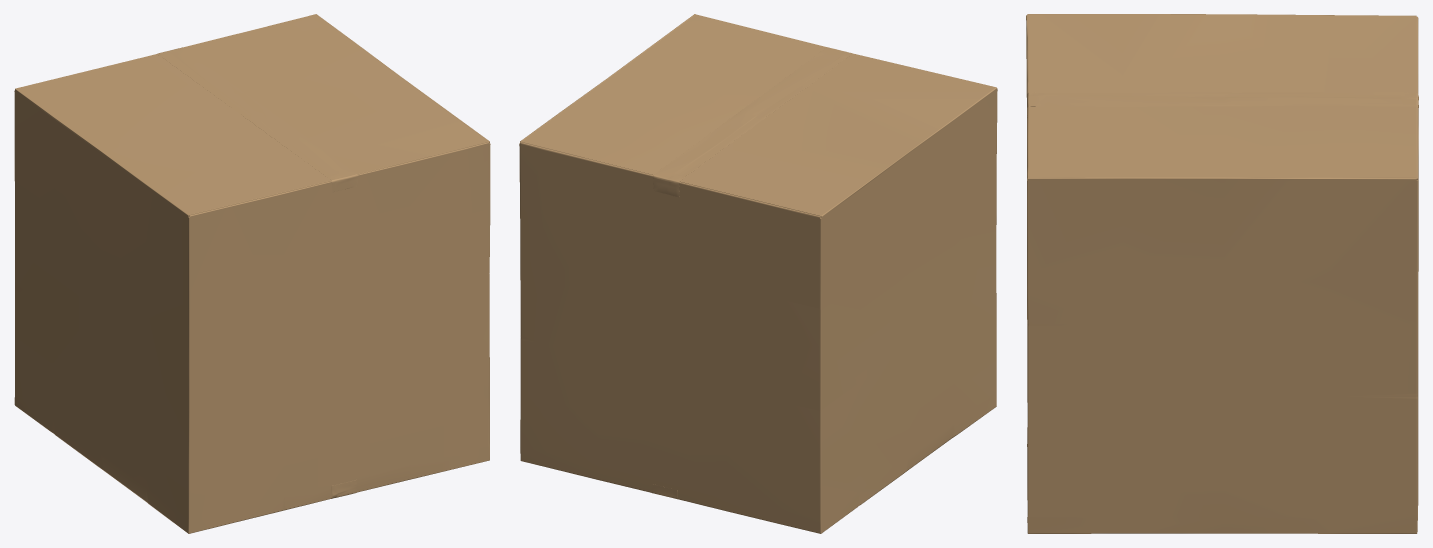
File: box_corrugated_white_a09.glb
3 renders of one model, left to right at view 1: azimuth 30°, elevation 25°; view 2: azimuth 150°, elevation 25°; view 3: azimuth 270°, elevation 25°, orthographic. The views are drawn at different scales.
Bounding box in the file's own units: 0.3609 × 0.3643 × 0.3631.
